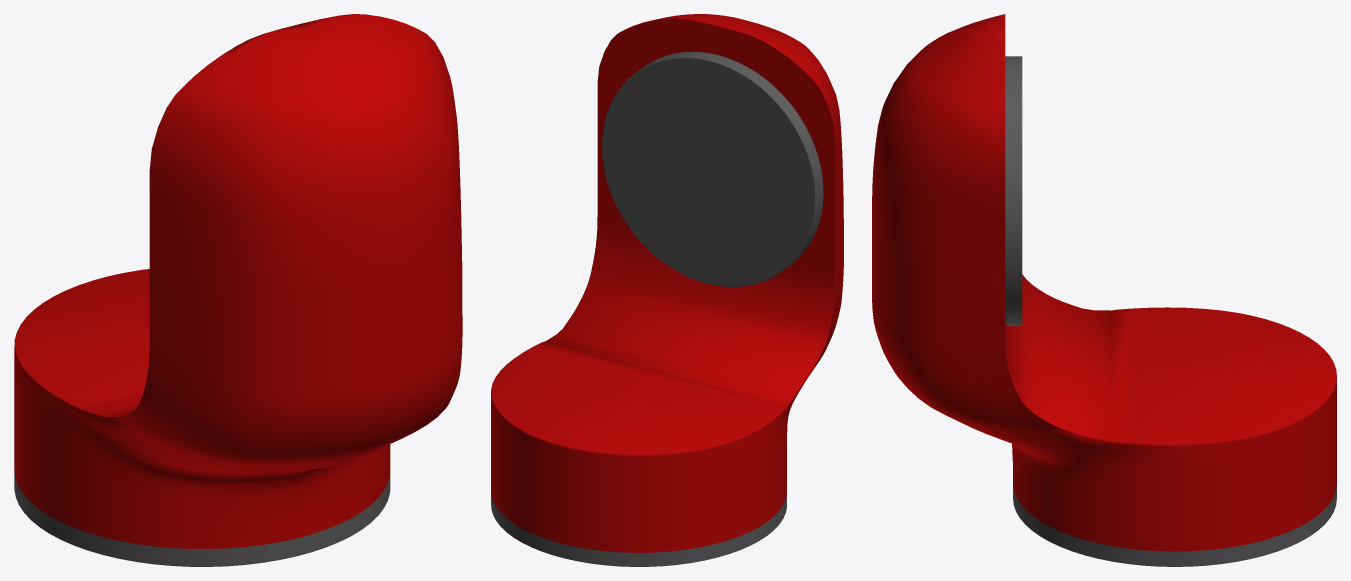
3 renders of one model, left to right at view 1: azimuth 30°, elevation 25°; view 2: azimuth 150°, elevation 25°; view 3: azimuth 270°, elevation 25°, orthographic. The views are drawn at different scales.
Parts seen in each view (by area): view 1: Link05; view 2: Link05; view 3: Link05.
Part boxes in pixels (left/top/right/bottom): Link05: left=14, top=14, right=462, bottom=566; Link05: left=491, top=14, right=843, bottom=566; Link05: left=872, top=14, right=1336, bottom=566.
Bounding box in the file's own units: 0.0955 × 0.1371 × 0.1502.
